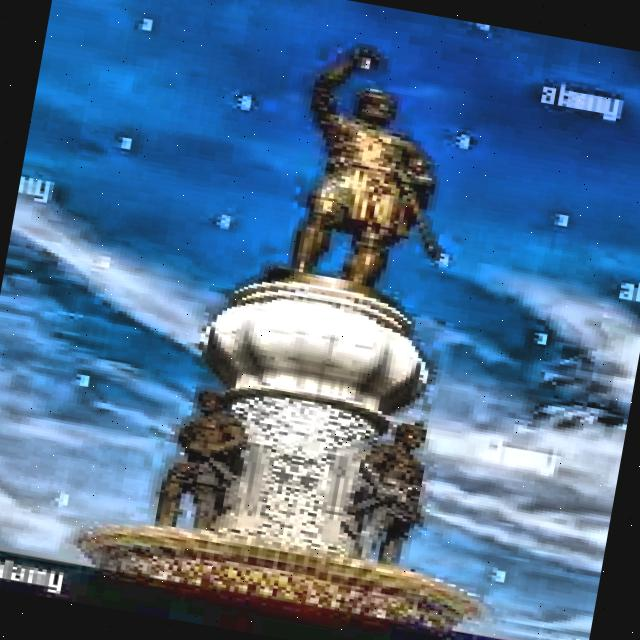Philip II of Macedonia: (62, 4, 592, 640)
